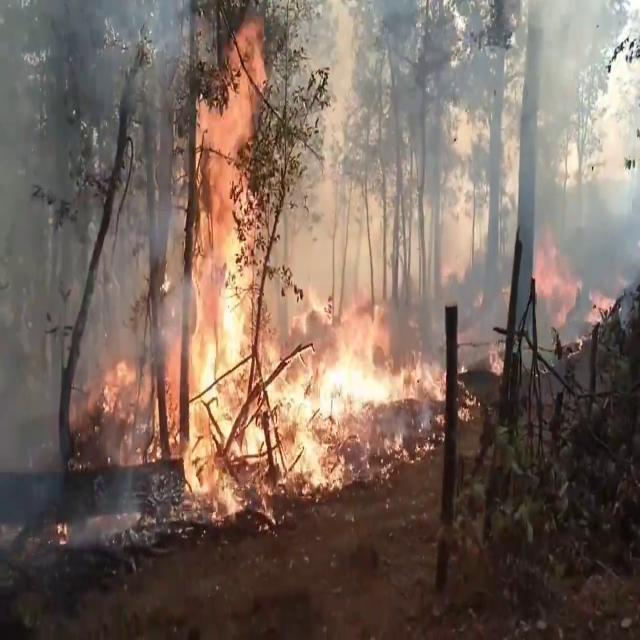Fire: (94, 279, 424, 502), (190, 0, 282, 332)
Smoke: (0, 1, 186, 494), (437, 4, 639, 350)
